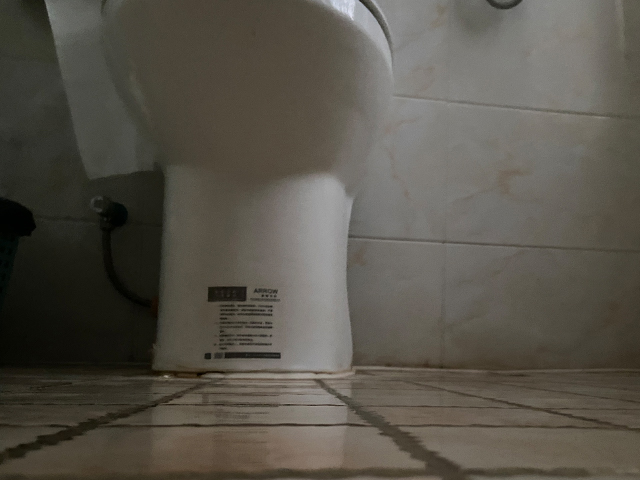closestool: (97, 1, 395, 374)
